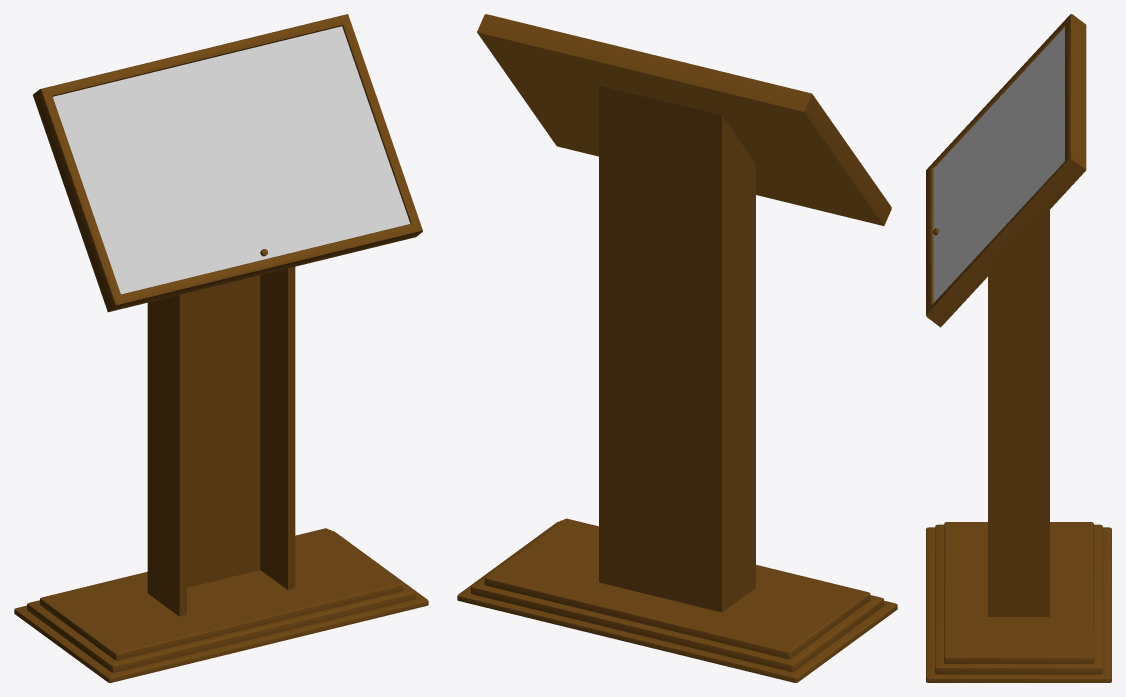
Rendered from Summer_Terrace_Floor_Standig.fbx.
3 renders of one model, left to right at view 1: azimuth 30°, elevation 25°; view 2: azimuth 150°, elevation 25°; view 3: azimuth 270°, elevation 25°, orthographic. The views are drawn at different scales.
Parts seen in each view (by area): view 1: Summer_Terrace_Floor_Standig; view 2: Summer_Terrace_Floor_Standig; view 3: Summer_Terrace_Floor_Standig.
Part boxes in pixels (left/top/right/bottom): Summer_Terrace_Floor_Standig: left=14, top=14, right=428, bottom=682; Summer_Terrace_Floor_Standig: left=457, top=14, right=897, bottom=682; Summer_Terrace_Floor_Standig: left=926, top=14, right=1111, bottom=682.
Size of the model in its own units: 79 by 127 by 41.02.
